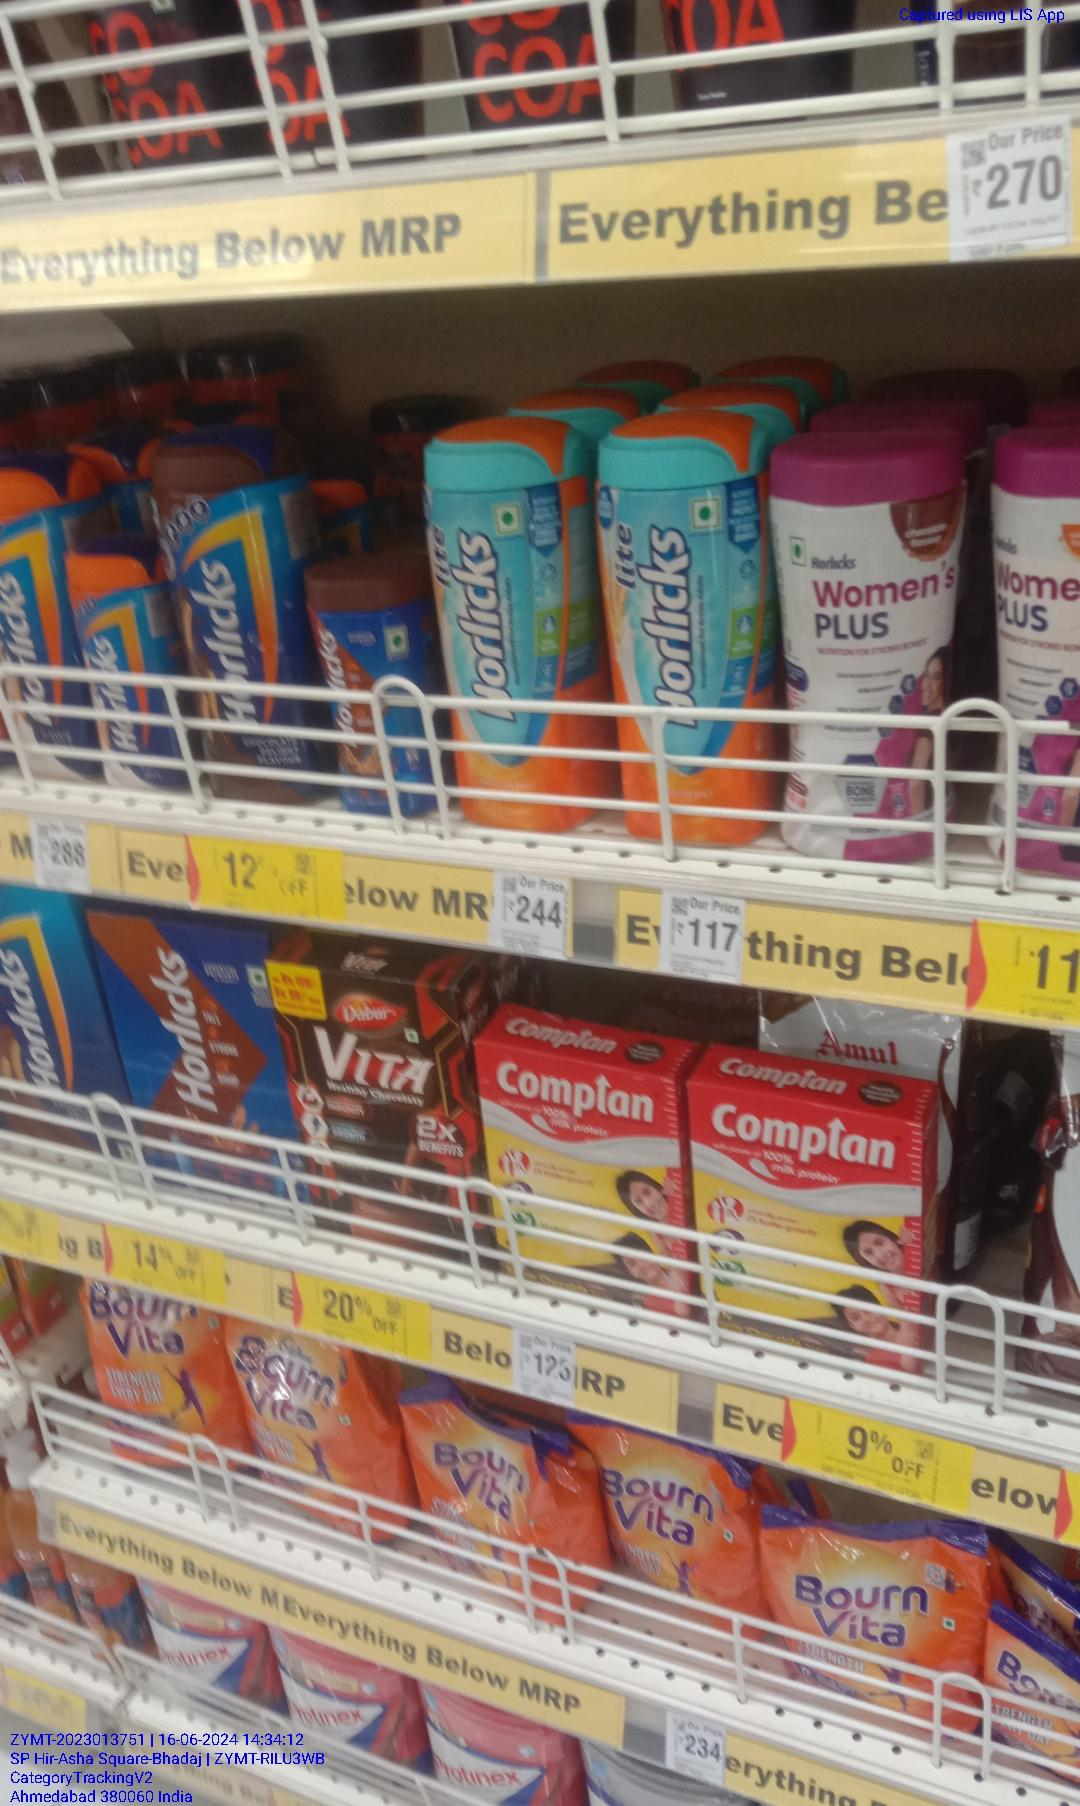COMPLAN_CHOCOLATE_200_GMS_PACK: (694, 1098, 922, 1381), (489, 1046, 694, 1301)
HORLICKS_LITE_REGULAR_MALT_500_GM_JAR: (598, 436, 761, 855), (429, 431, 591, 830)
HORLICK_CHOCOLATE_200_G_JAR: (309, 555, 422, 821)
HORLICK_CHOCOLATE_500_G_PACK: (99, 909, 267, 1189)
HORLICK_CLASSIC_MALT_200_G_JAR: (72, 546, 163, 792)
